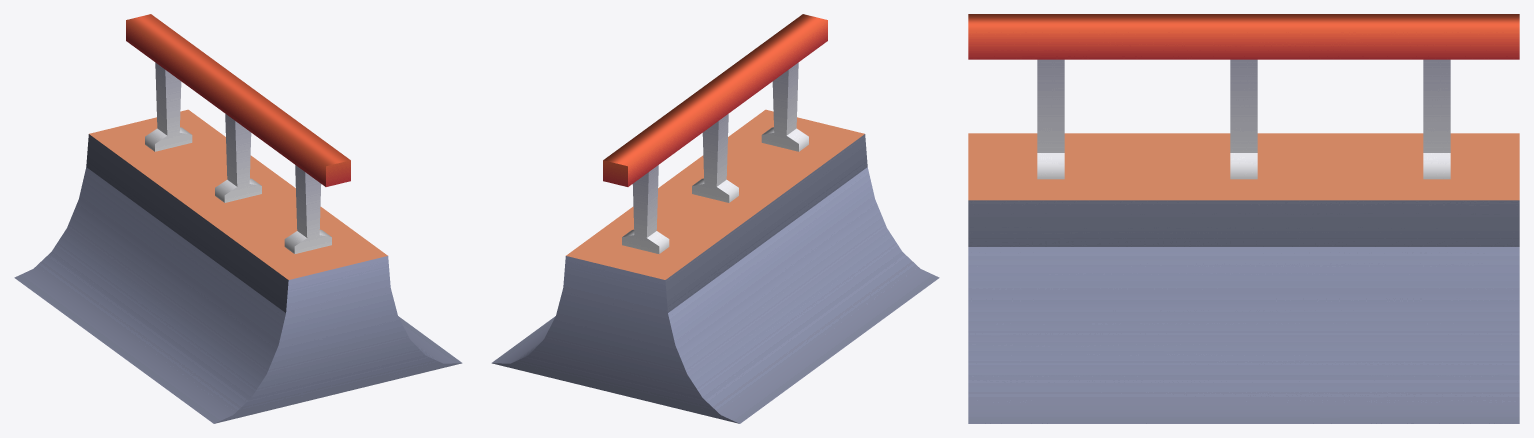
Rendered from obstacle-middle_lev2.glb.
3 renders of one model, left to right at view 1: azimuth 30°, elevation 25°; view 2: azimuth 150°, elevation 25°; view 3: azimuth 270°, elevation 25°, orthographic. The views are drawn at different scales.
Parts seen in each view (by area): view 1: obstacle-middle_lev2; view 2: obstacle-middle_lev2; view 3: obstacle-middle_lev2.
Boxes of the visible parts, <box> form: obstacle-middle_lev2: <box>14,14,462,423</box>; obstacle-middle_lev2: <box>491,14,939,423</box>; obstacle-middle_lev2: <box>968,14,1519,423</box>.
Bounding box in the file's own units: 2.88 × 2.55 × 4.01.
1 material, 1 textured.
